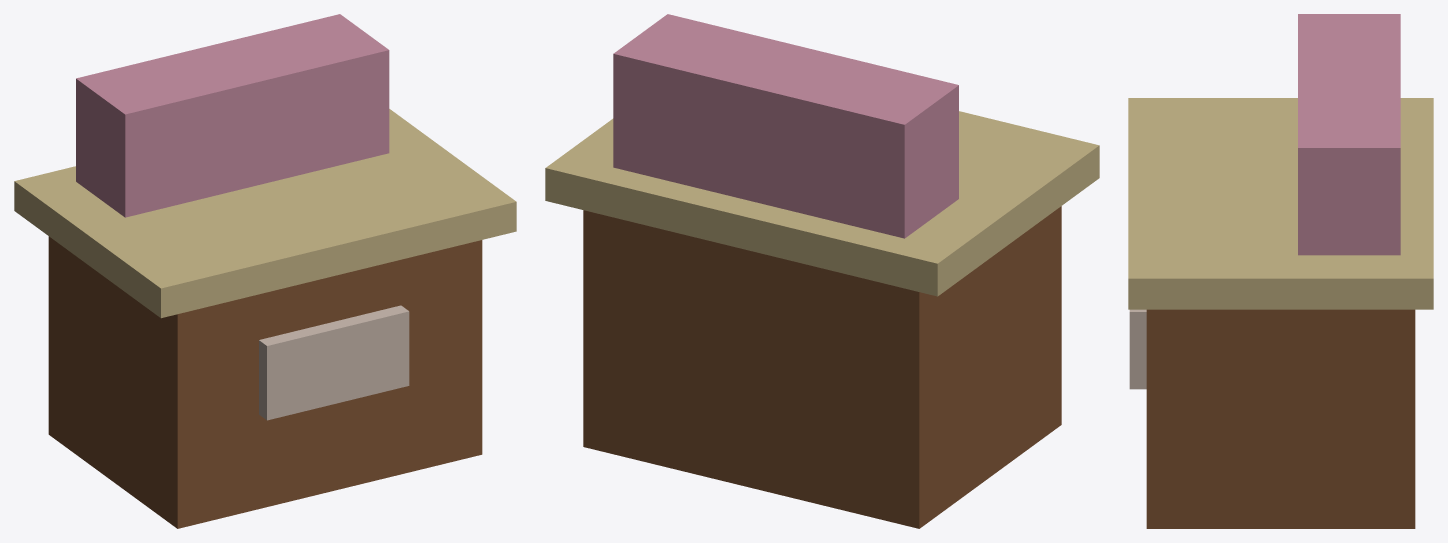
The model's file is produce_crate.glb.
The picture shows the model from 3 angles, left to right: view 1: azimuth 30°, elevation 25°; view 2: azimuth 150°, elevation 25°; view 3: azimuth 270°, elevation 25°; orthographic projection. The views are drawn at different scales.
Parts seen in each view (by area): view 1: body, functional_surface, upper, accent_panel; view 2: body, upper, functional_surface; view 3: body, functional_surface, upper, accent_panel.
Boxes of the visible parts, bbox=[...] form: body: bbox=[48, 236, 482, 528]; functional_surface: bbox=[14, 109, 516, 318]; upper: bbox=[76, 14, 389, 217]; accent_panel: bbox=[259, 305, 409, 420]; body: bbox=[583, 206, 1061, 528]; upper: bbox=[613, 14, 958, 238]; functional_surface: bbox=[545, 111, 1099, 296]; body: bbox=[1146, 309, 1415, 528]; functional_surface: bbox=[1128, 98, 1433, 309]; upper: bbox=[1298, 14, 1400, 255]; accent_panel: bbox=[1129, 309, 1146, 389].
Size of what is drawn, in the model's own units: 1.75 by 1.68 by 1.25.
